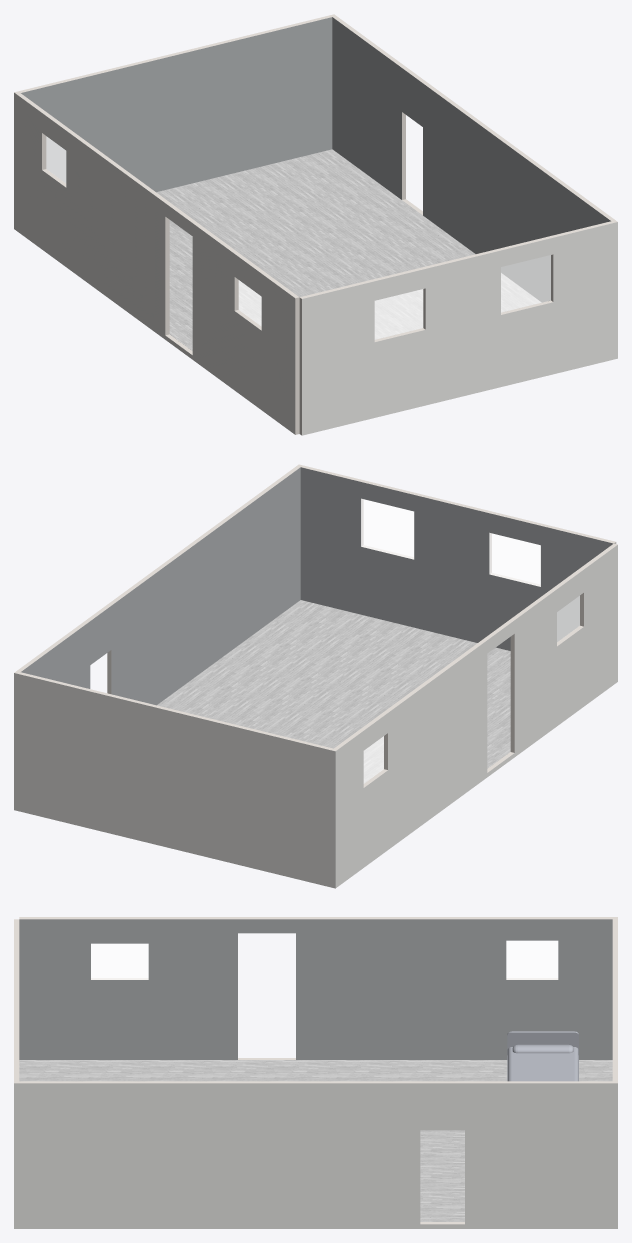
The picture shows the model from 3 angles, top to bottom: view 1: azimuth 30°, elevation 25°; view 2: azimuth 150°, elevation 25°; view 3: azimuth 270°, elevation 25°; orthographic projection. The views are drawn at different scales.
Visible parts, largest first — view 1: wall_1 (×3), wall_2 (×3), wall_0 (×2), floor_Bedroom_0, wall_3 (×2), window_3 (×2), window_2 (×2), window_1 (×2), window_0 (×2); view 2: wall_0 (×2), wall_2 (×3), wall_1 (×2), wall_3 (×2), floor_Bedroom_0, window_3 (×2), window_2 (×2), window_1 (×2), window_0 (×2); view 3: wall_3 (×2), wall_2 (×2), floor_Bedroom_0, window_1 (×2), window_0 (×2), bed0, wall_0, wall_1.
Boxes of the visible parts, x1,y1,x2,y2 form: wall_1 (×3): (299,221,617,435); wall_2 (×3): (14,92,299,434); wall_0 (×2): (15,14,333,192); floor_Bedroom_0: (156,149,541,350); wall_3 (×2): (332,14,617,302); window_3 (×2): (501,255,550,312); window_2 (×2): (375,289,422,339); window_1 (×2): (239,280,261,325); window_0 (×2): (46,136,65,182); wall_0 (×2): (14,672,335,888); wall_2 (×3): (334,543,617,887); wall_1 (×2): (299,464,615,650); wall_3 (×2): (14,464,300,705); floor_Bedroom_0: (157,600,510,783); window_3 (×2): (361,499,413,559); window_2 (×2): (489,533,540,586); window_1 (×2): (557,596,579,641); window_0 (×2): (364,736,383,783); wall_3 (×2): (14,1081,617,1228); wall_2 (×2): (19,917,617,1059); floor_Bedroom_0: (19,1060,612,1221); window_1 (×2): (91,944,148,979); window_0 (×2): (506,941,557,979); bed0: (507,1031,578,1081); wall_0: (612,917,617,1083); wall_1: (14,919,19,1083).
Size of the model in its own units: 7.62 by 3.11 by 11.69.
Materials: 13 (1 with a texture image).
